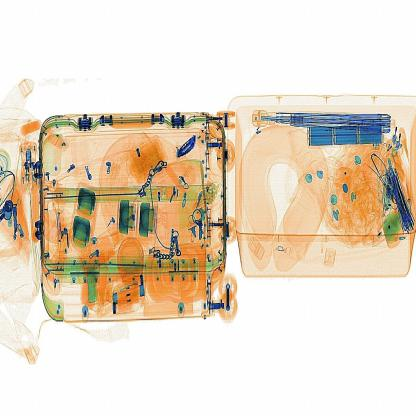knife: (172, 131, 200, 168)
